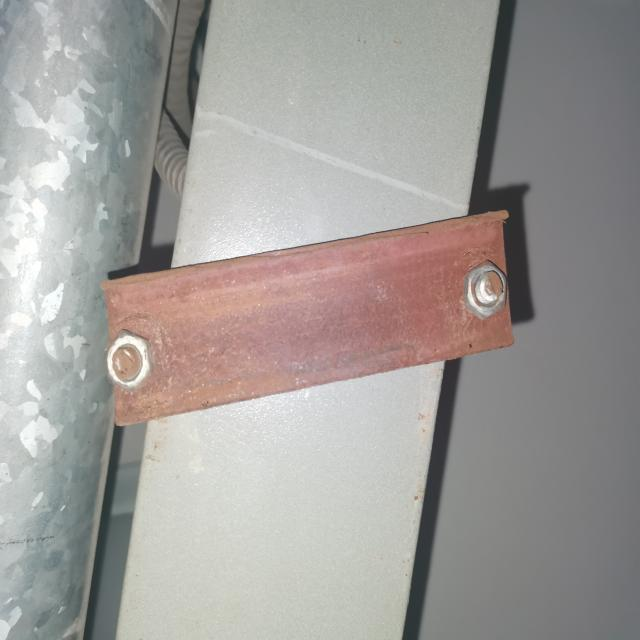bolt nut: (460, 255, 510, 322), (105, 328, 154, 394)
